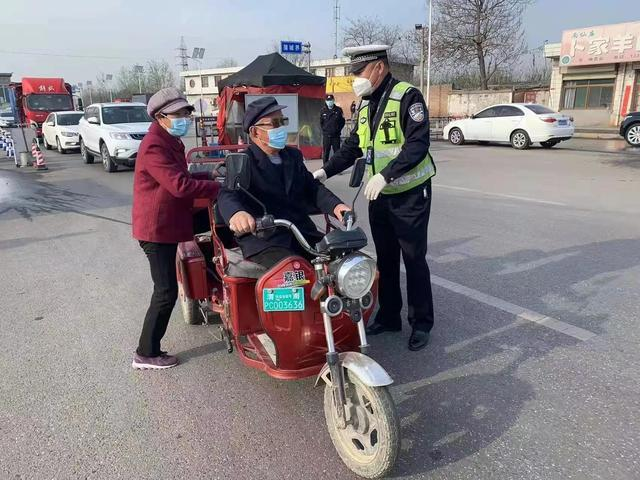driver: (213, 92, 364, 352)
overloading: (116, 78, 388, 480)
passenger: (130, 87, 206, 373)
